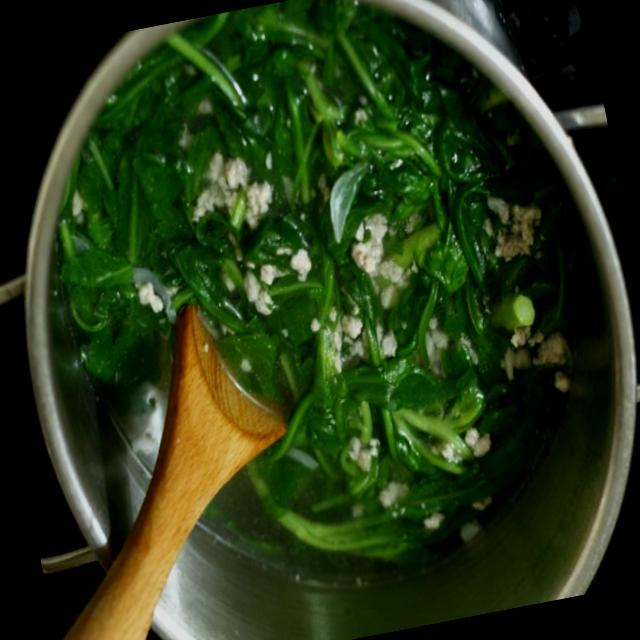canh cai: (57, 0, 581, 565)
